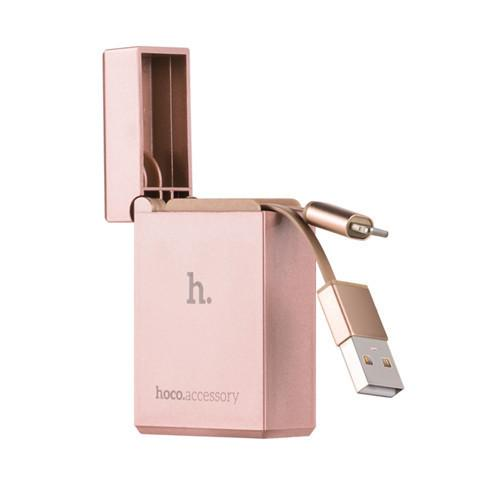Nonrec_Other: (85, 27, 411, 449)
